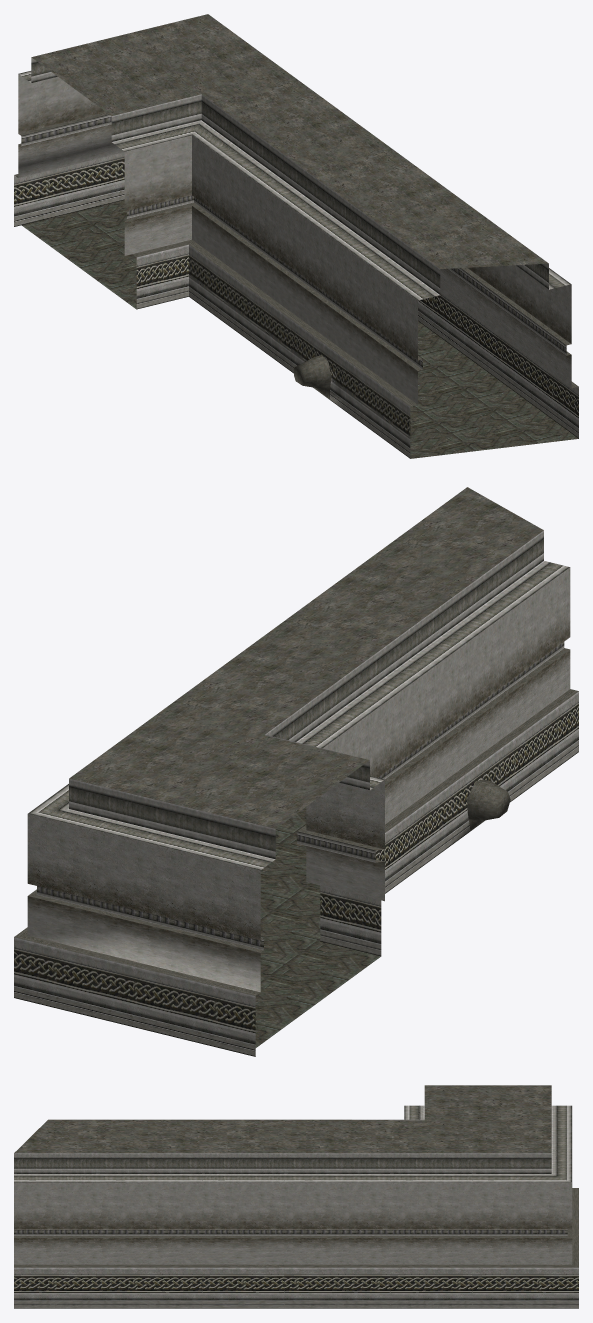
Rendered from DWARF_PALACE_FORGE_HALLWAY02A01.fbx.
The picture shows the model from 3 angles, top to bottom: view 1: azimuth 30°, elevation 25°; view 2: azimuth 150°, elevation 25°; view 3: azimuth 270°, elevation 25°; orthographic projection. The views are drawn at different scales.
Visible parts, largest first — view 1: DWARF_PALACE_FORGE_HALLWAY02A01; view 2: DWARF_PALACE_FORGE_HALLWAY02A01; view 3: DWARF_PALACE_FORGE_HALLWAY02A01.
Part boxes in pixels (x1=…): DWARF_PALACE_FORGE_HALLWAY02A01: x1=14, y1=14, x2=578, y2=458; DWARF_PALACE_FORGE_HALLWAY02A01: x1=14, y1=487, x2=578, y2=1056; DWARF_PALACE_FORGE_HALLWAY02A01: x1=14, y1=1085, x2=578, y2=1308.
Bounding box in the file's own units: 83004 × 70000 × 249000.
7 materials, 7 textured.
